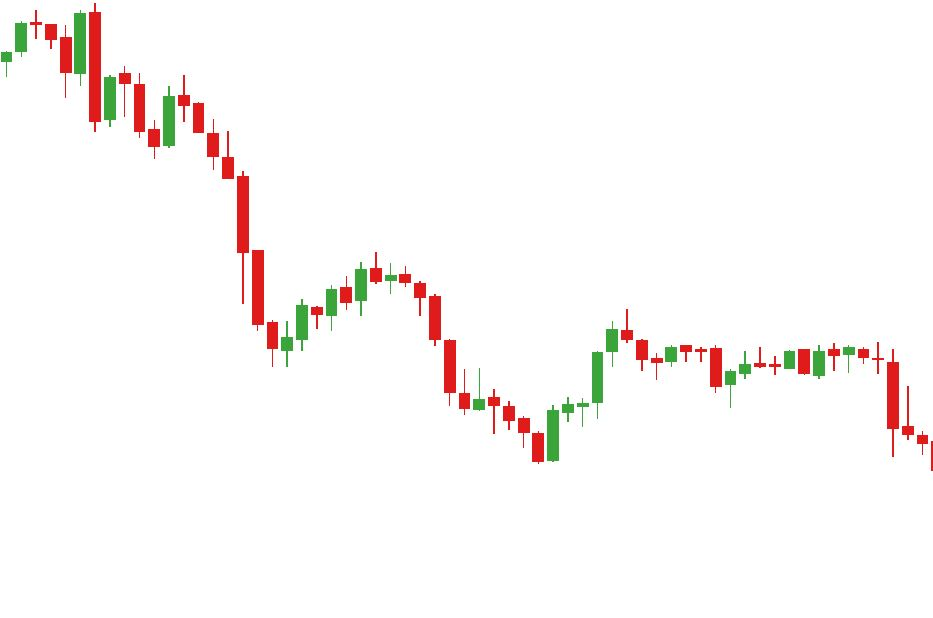sell: (29, 2, 104, 62)
